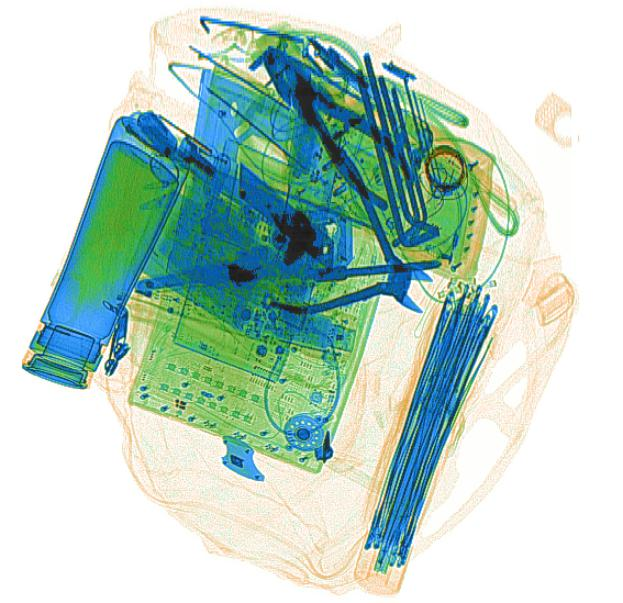battery: (135, 105, 181, 157)
